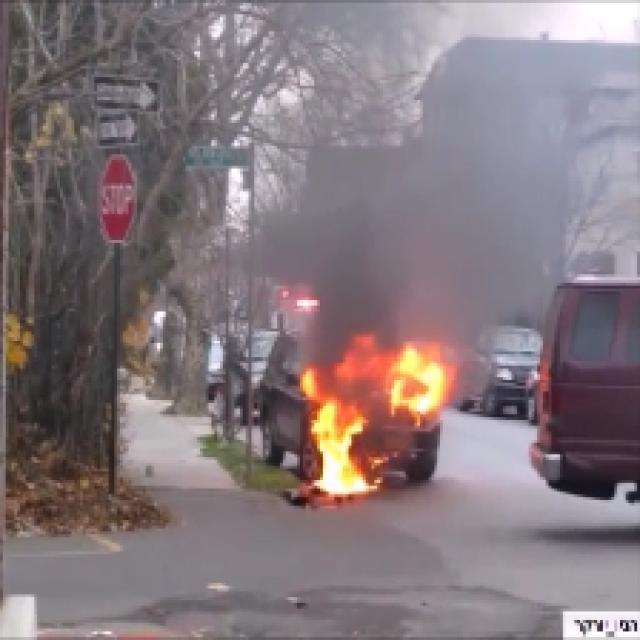Fire: (302, 347, 442, 498)
Smoke: (320, 128, 540, 327)
